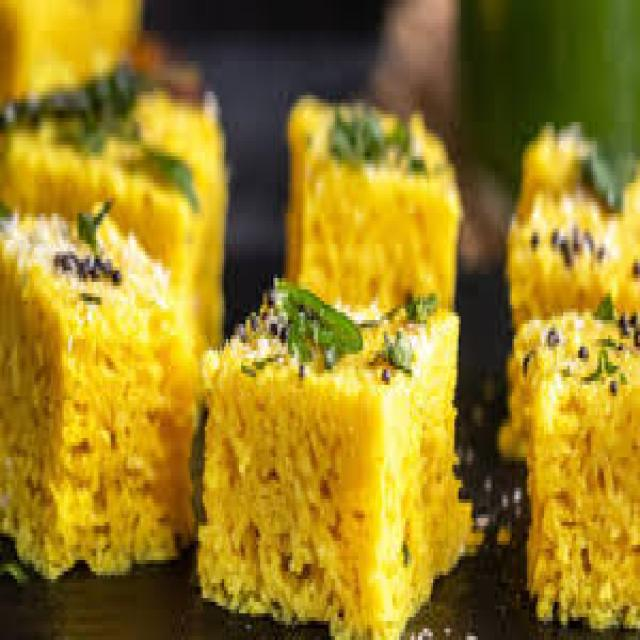DHOKLA: (200, 276, 461, 635), (5, 62, 226, 428), (0, 200, 189, 590), (518, 304, 638, 618), (286, 106, 453, 308), (507, 145, 638, 334)
